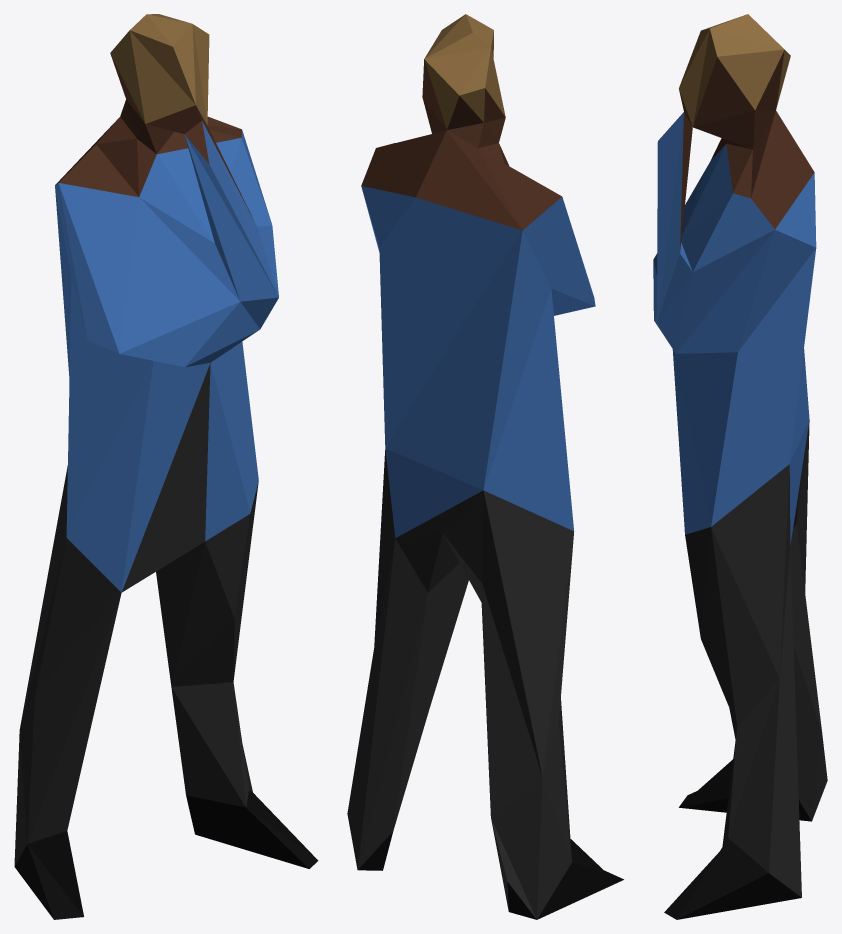
Rendered from walker-25.glb.
3 views of the same model, side by side, from view 1: azimuth 30°, elevation 25°; view 2: azimuth 150°, elevation 25°; view 3: azimuth 270°, elevation 25° (orthographic).
Visible parts, largest first — view 1: Man03; view 2: Man03; view 3: Man03.
Part boxes in pixels (box(x1,y1,x2,y2)): Man03: box(14, 14, 318, 919); Man03: box(347, 14, 623, 919); Man03: box(653, 14, 827, 919).
Size of the model in its own units: 0.5101 by 1.61 by 0.3017.
